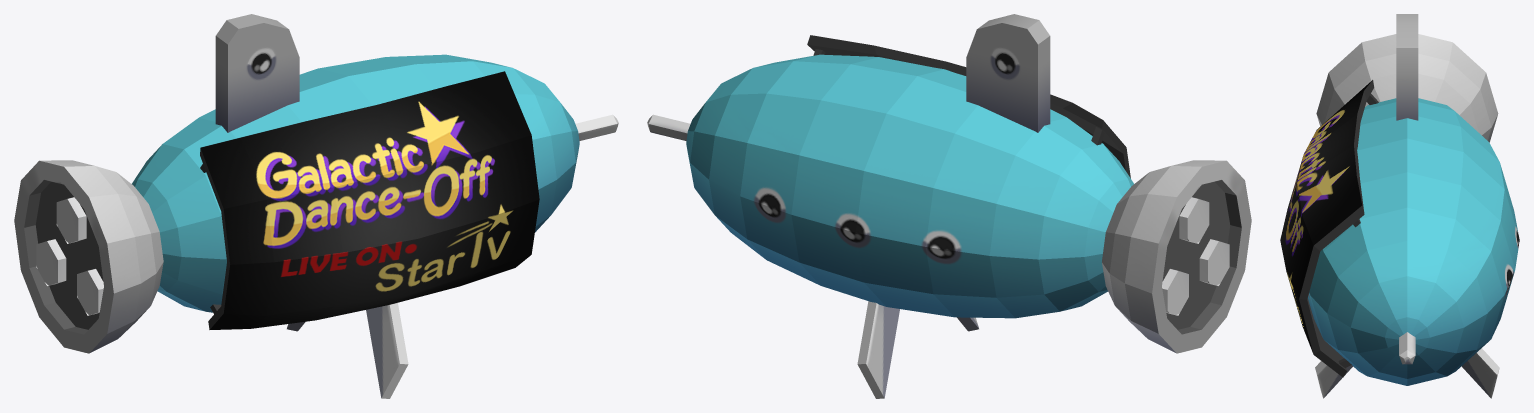
The model's file is MSH_Airship_Arena1_0.fbx.
3 renders of one model, left to right at view 1: azimuth 30°, elevation 25°; view 2: azimuth 150°, elevation 25°; view 3: azimuth 270°, elevation 25°, orthographic. The views are drawn at different scales.
Visible parts, largest first — view 1: airship; view 2: airship; view 3: airship.
Boxes of the visible parts, x1,y1,x2,y2 form: airship: (14,14,618,398); airship: (647,14,1251,398); airship: (1280,14,1519,398).
Bounding box in the file's own units: 6.67 × 4.24 × 2.75.
